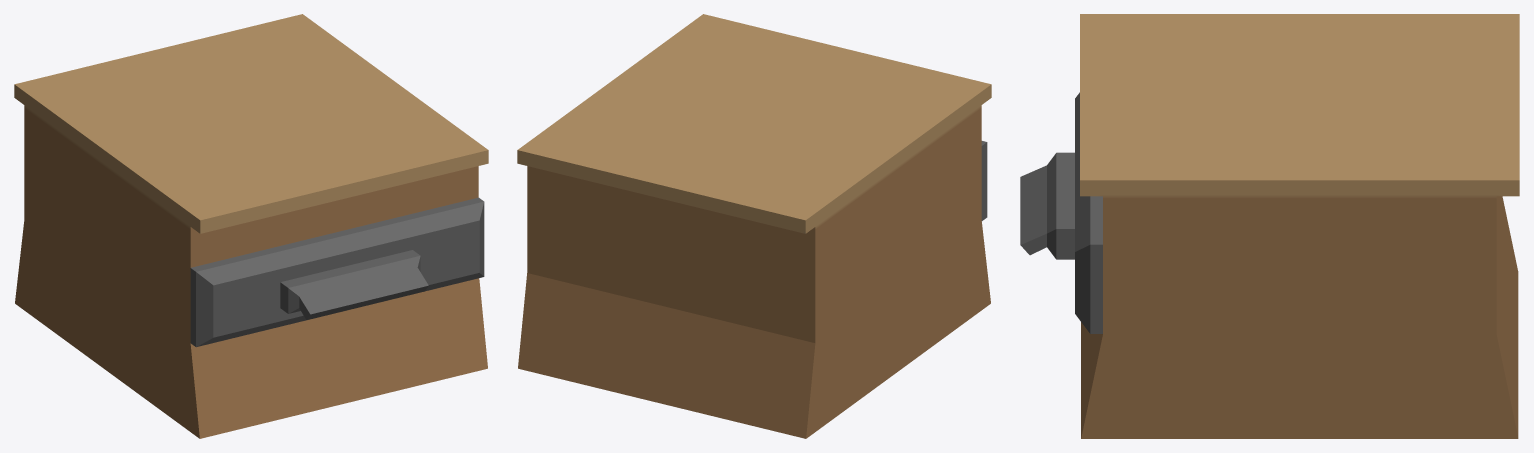
The model's file is MesaModular.fbx.
3 views of the same model, side by side, from view 1: azimuth 30°, elevation 25°; view 2: azimuth 150°, elevation 25°; view 3: azimuth 270°, elevation 25° (orthographic). The views are drawn at different scales.
Parts seen in each view (by area): view 1: MesaGrande; view 2: MesaGrande; view 3: MesaGrande.
Part boxes in pixels (box(x1,y1,x2,y2)): MesaGrande: box(14, 14, 488, 438); MesaGrande: box(517, 14, 991, 438); MesaGrande: box(1020, 14, 1519, 438).
Bounding box in the file's own units: 137 × 99.53 × 174.
